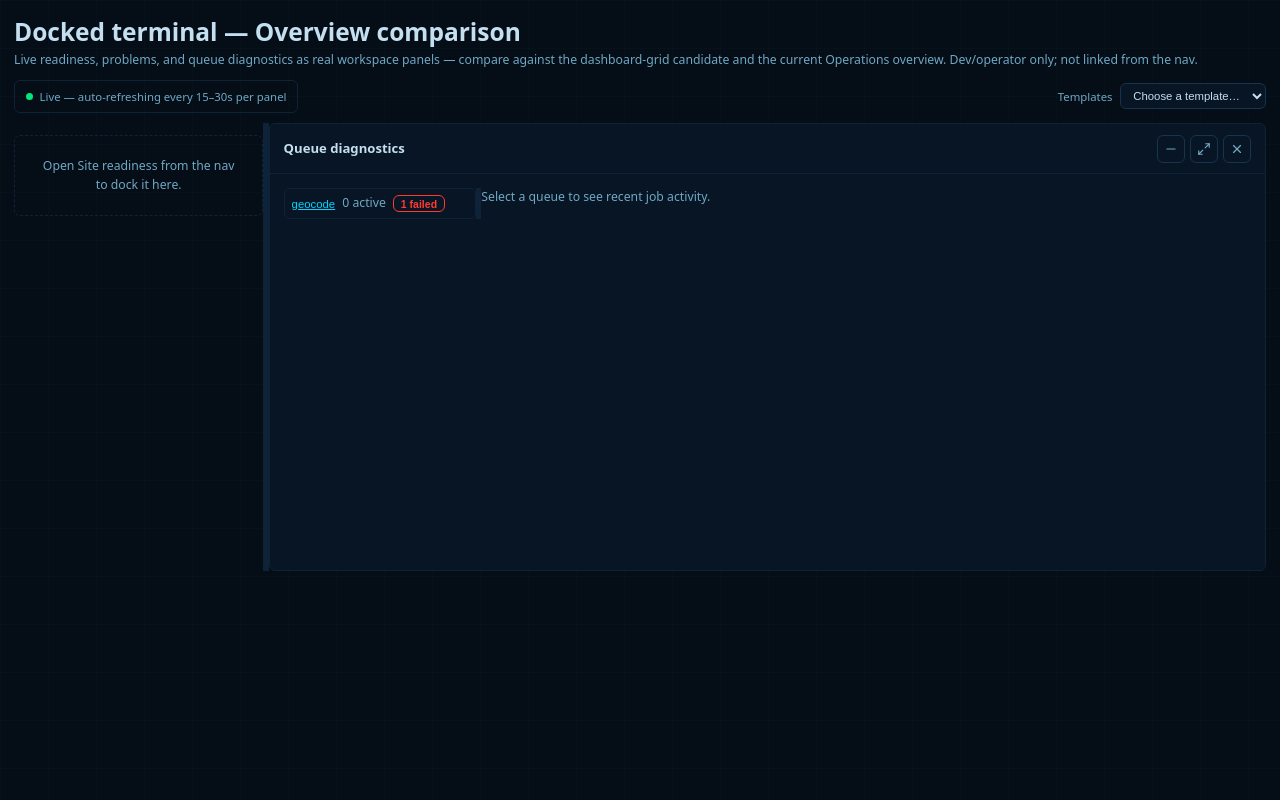
it: DockedTerminalClient (#913) › a queue's failed-job count opens/focuses a logs panel filtered to that job, leaving queues open
Click the button with aria-label "1 failed jobs in geocode" at (419, 204), box [393,195,445,212]
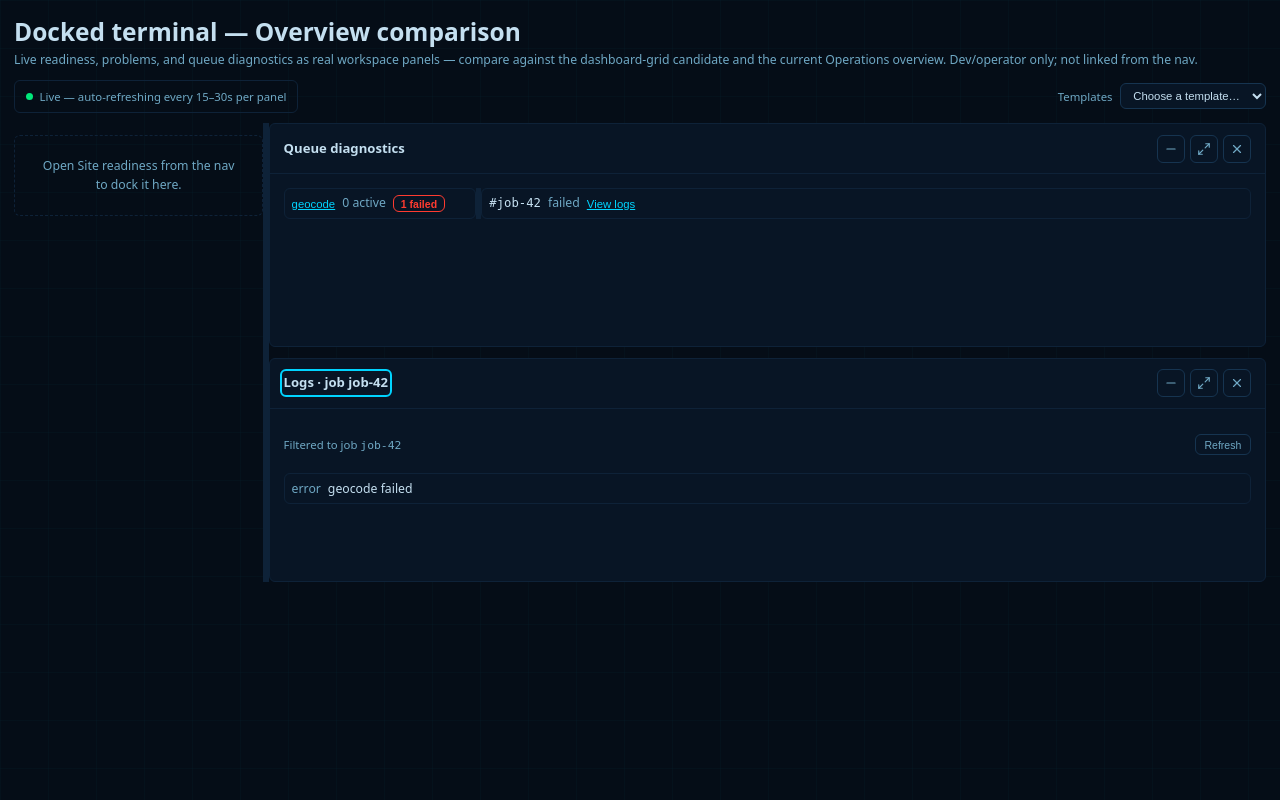
Check: the element "Queue diagnostics" is shown, box [269,123,1266,347]
Check: the element "Logs · job job-42" is shown, box [269,358,1266,582]
Check: the text "geocode failed" is shown, box [328,480,412,497]
